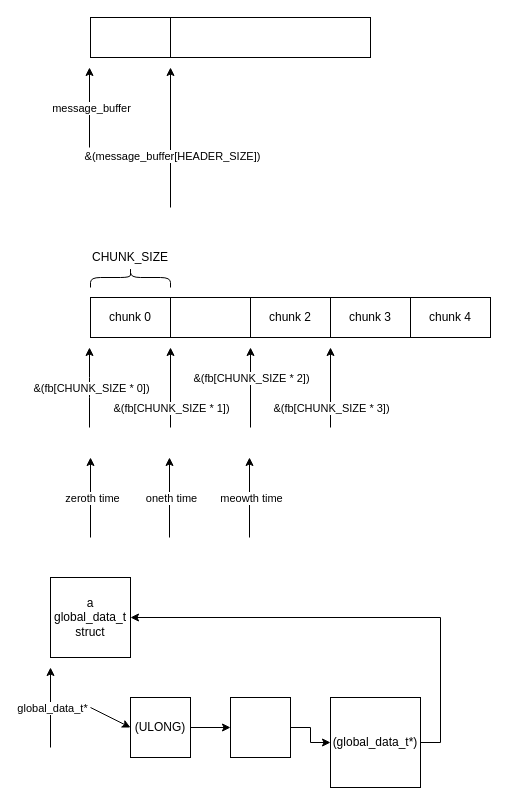
Some shapes in this 508 by 805 pixel diagram are drawn without their labels. Each missing label, with the centre of its shape:
chunk 1: (210,317)
header: (130,37)
image data: (270,37)
some thread function: (260,727)
